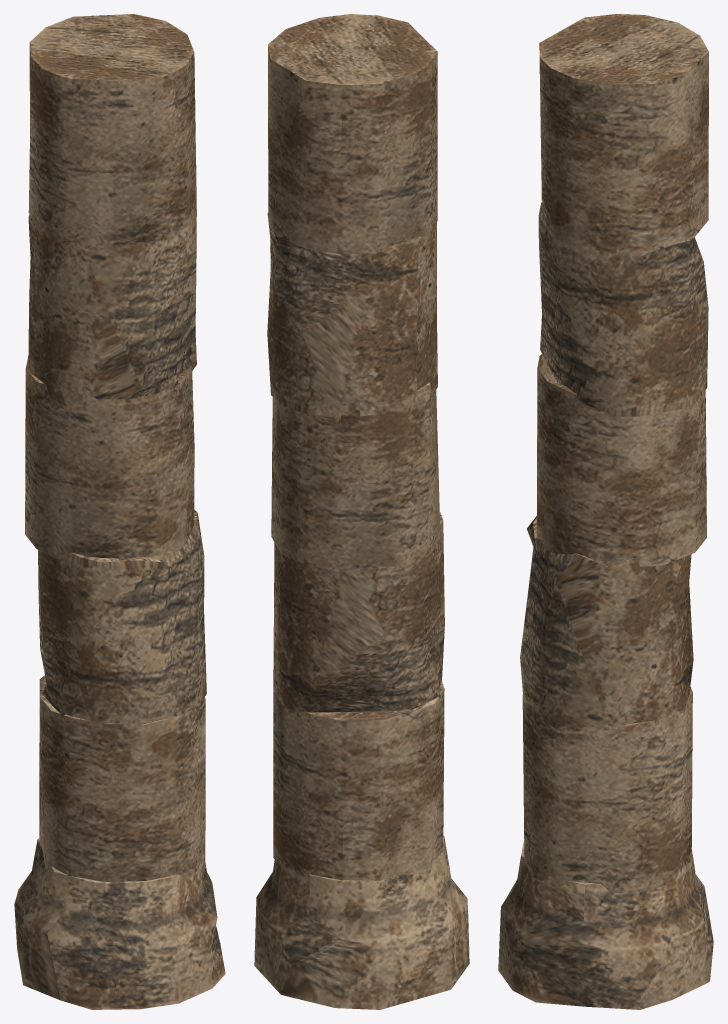
The model's file is DruinPillarSet04.FBX.
The picture shows the model from 3 angles, left to right: view 1: azimuth 30°, elevation 25°; view 2: azimuth 150°, elevation 25°; view 3: azimuth 270°, elevation 25°; orthographic projection.
Parts seen in each view (by area): view 1: DruinPillarSet04; view 2: DruinPillarSet04; view 3: DruinPillarSet04.
Part boxes in pixels (left/top/right/bottom): DruinPillarSet04: left=14, top=14, right=225, bottom=1009; DruinPillarSet04: left=254, top=14, right=469, bottom=1009; DruinPillarSet04: left=498, top=14, right=713, bottom=1009.
Size of the model in its own units: 160 by 764 by 163.
